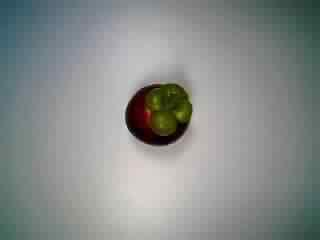mangosteen: (122, 75, 196, 149)
